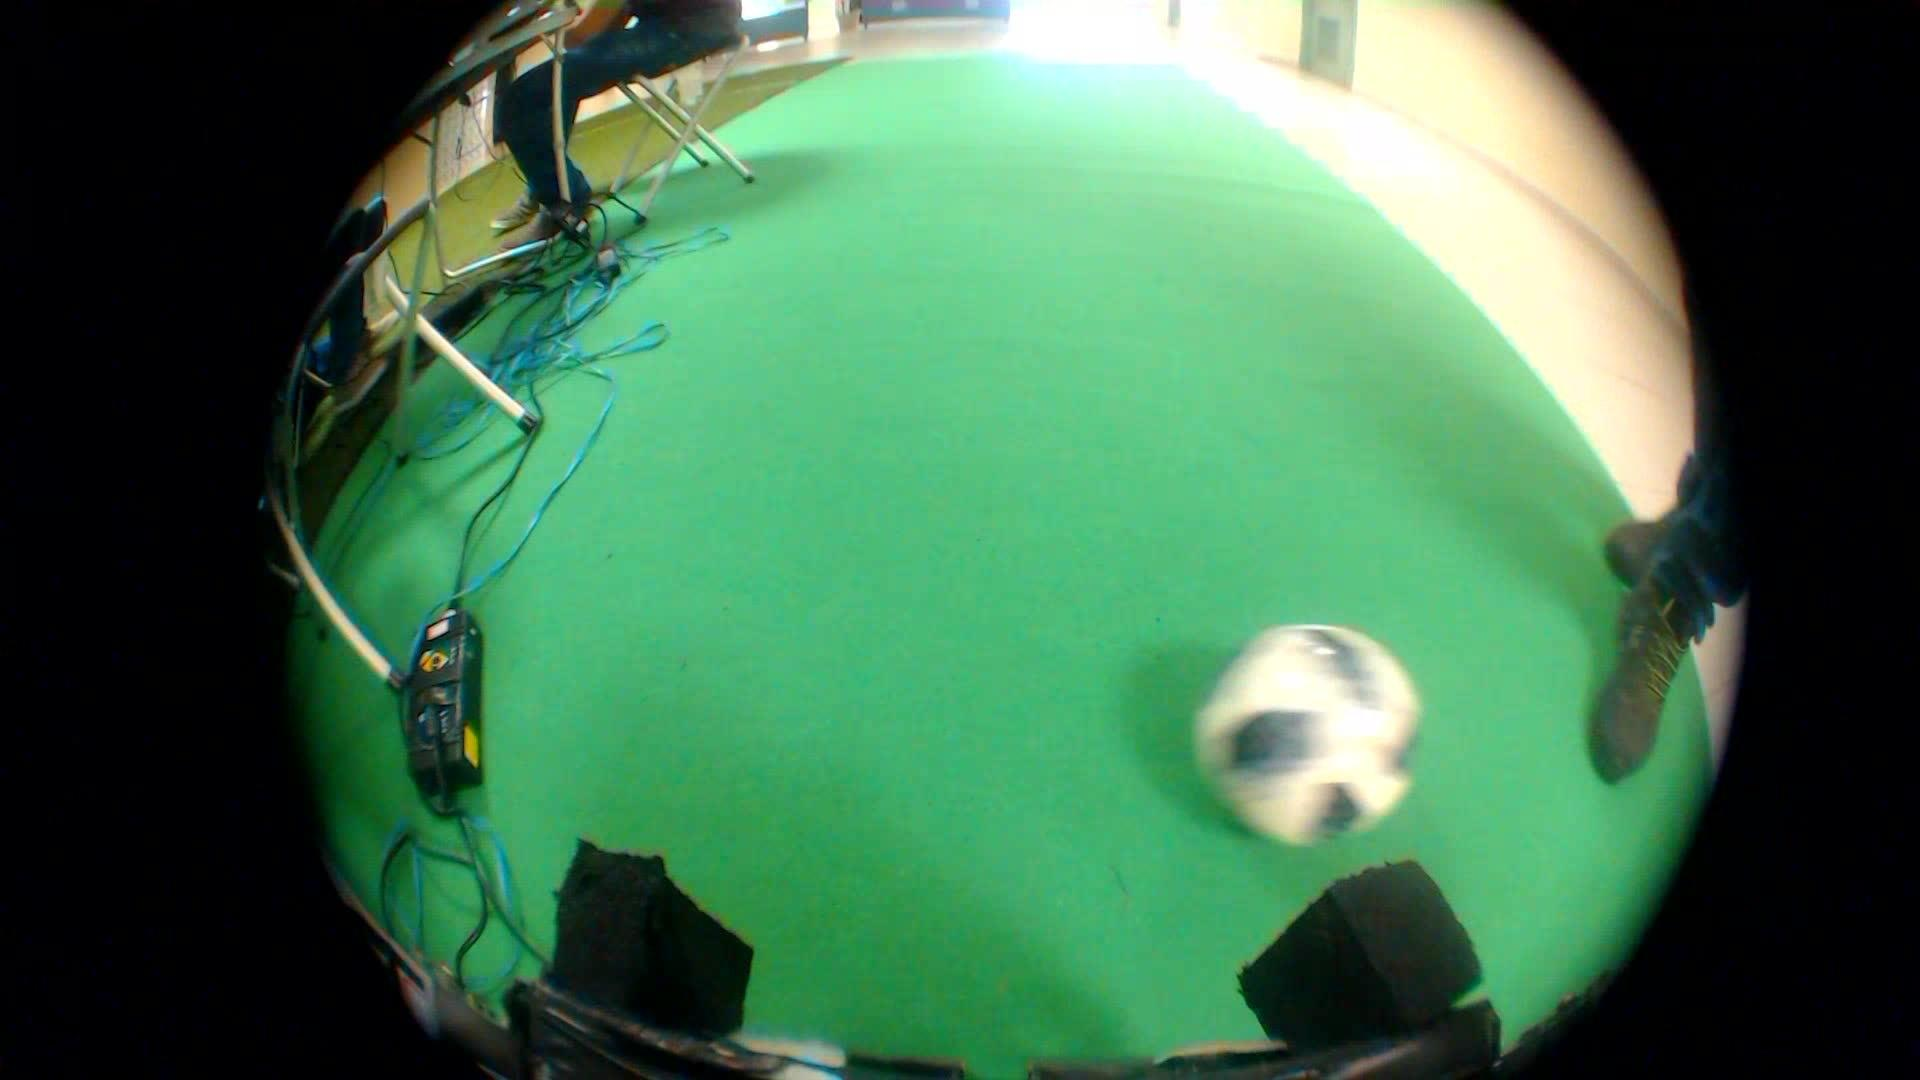ball: (1156, 596, 1476, 880)
